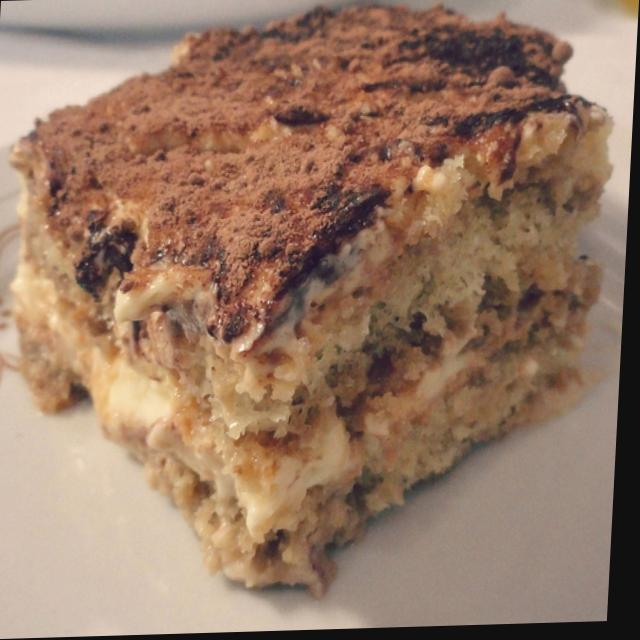蛋糕甜品: (0, 0, 622, 616)
